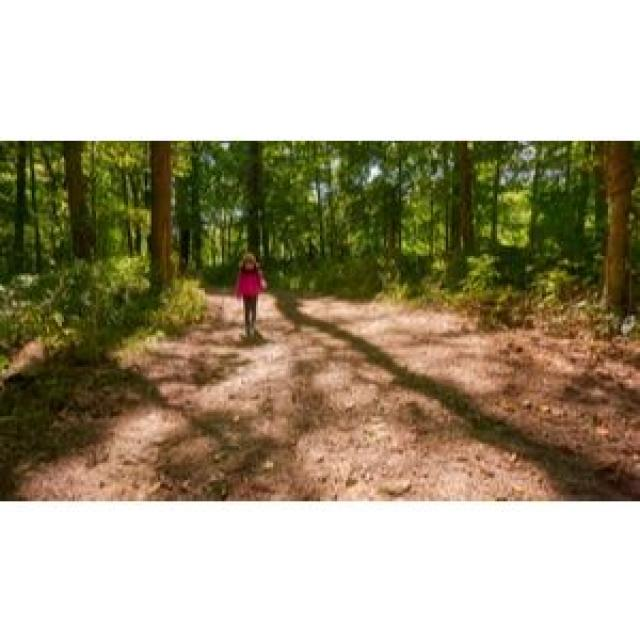nonfall: (217, 249, 283, 351)
